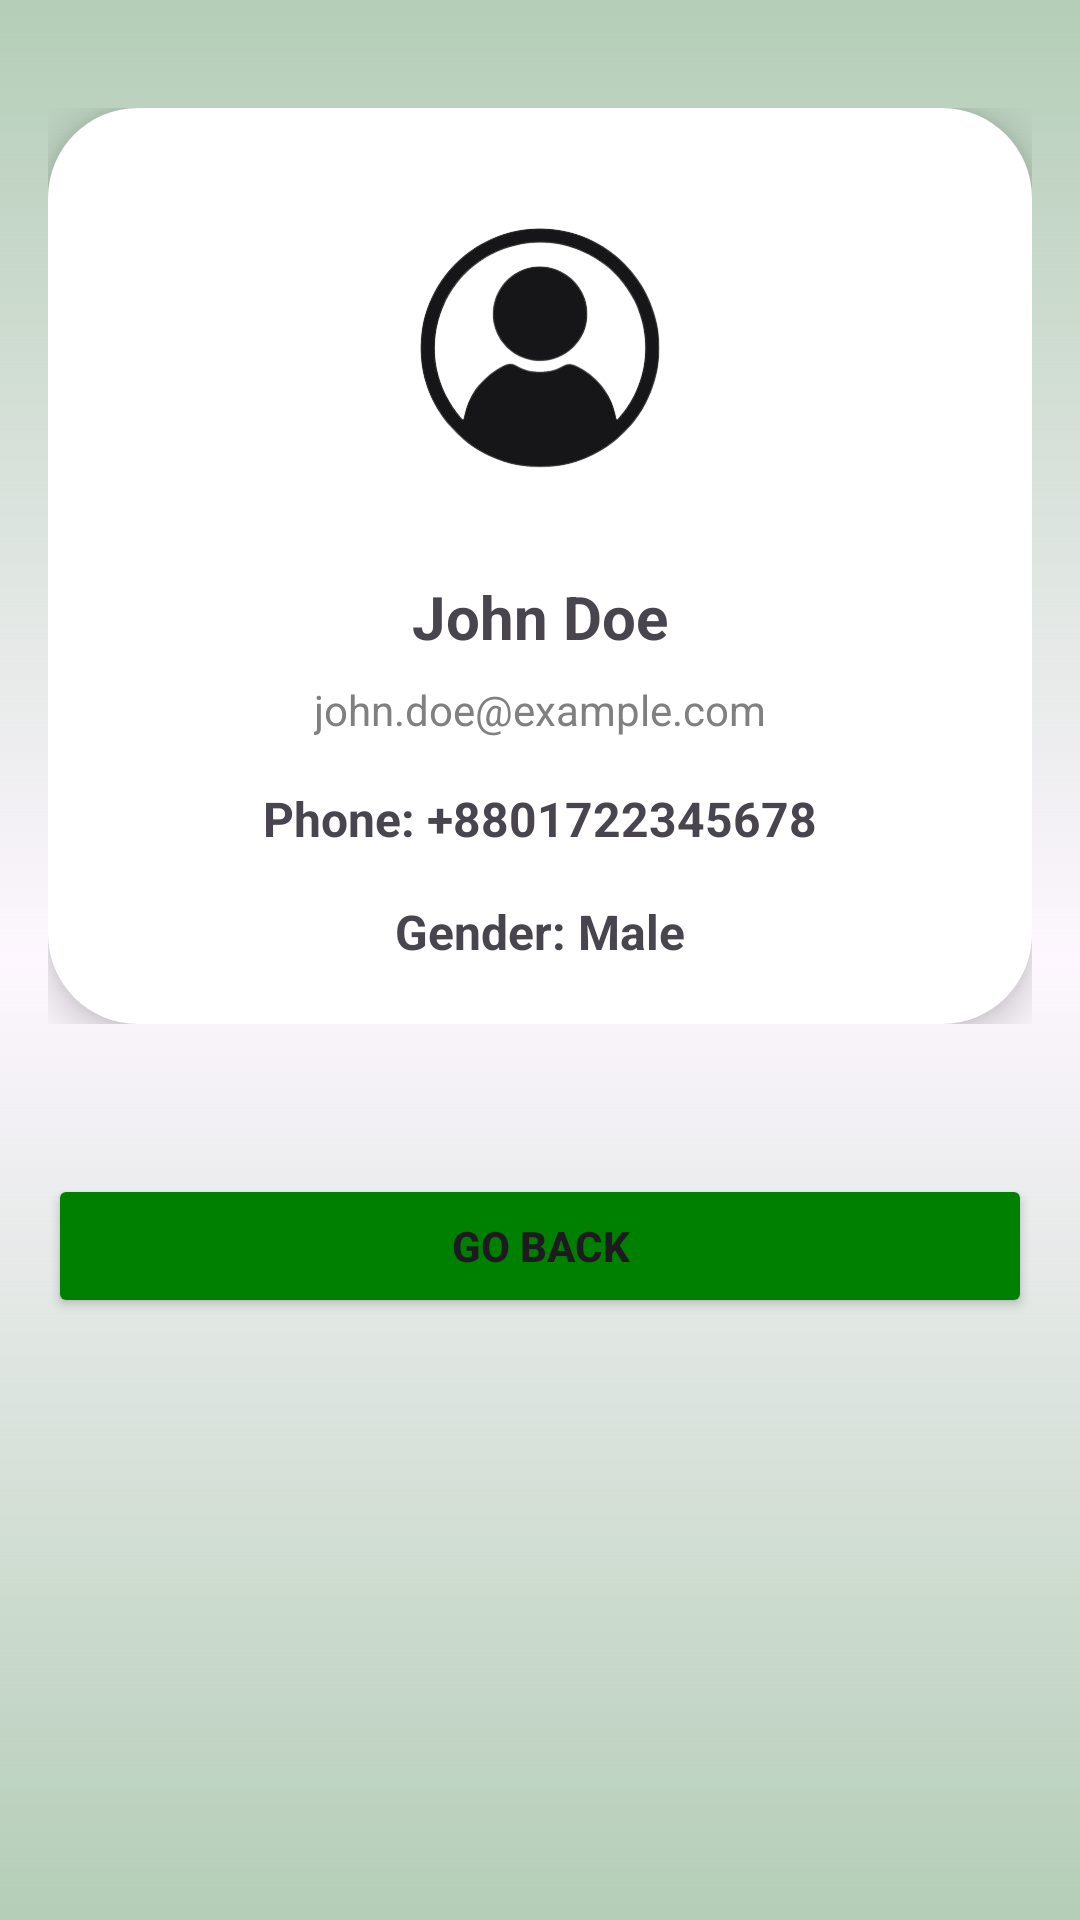

Point at icon controls on the screen. Image size 1080w x 1920h, points as [x,y].
user: [540,347]
